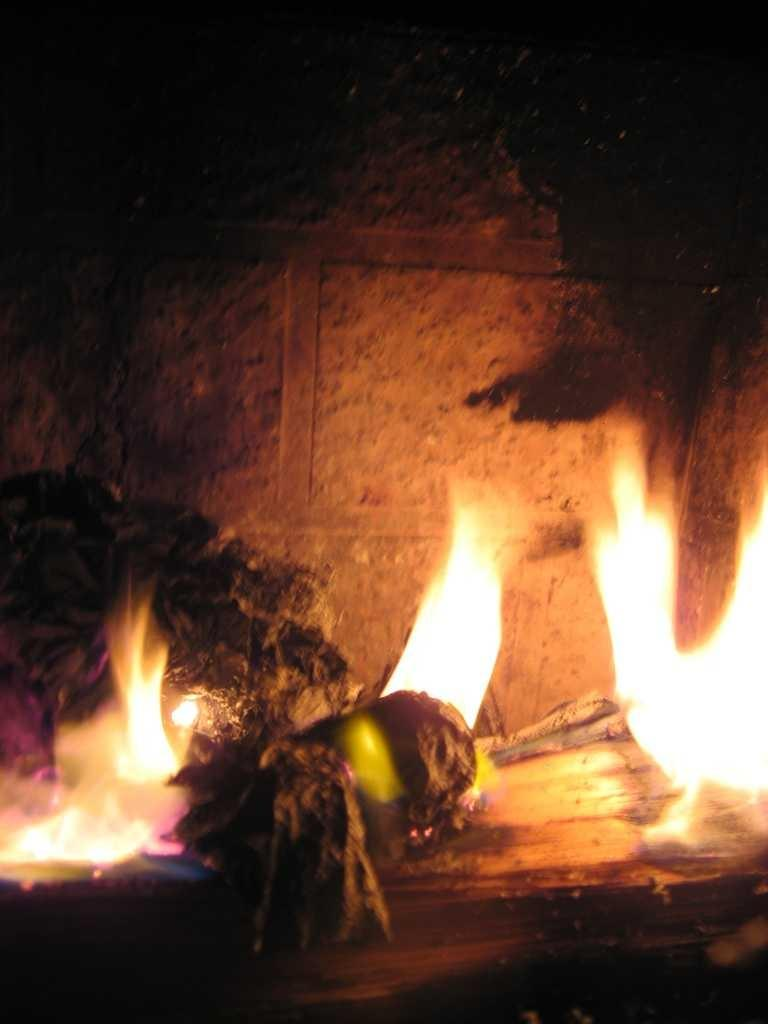fire: (593, 461, 767, 768), (11, 604, 191, 885), (414, 531, 517, 706)
